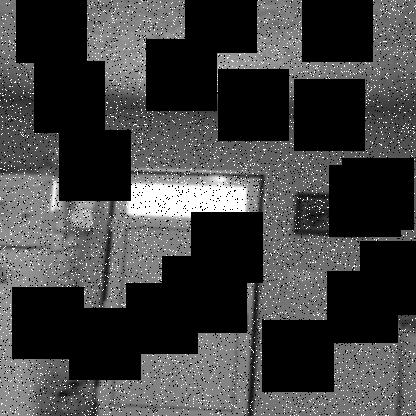Porte: (95, 173, 263, 415)
